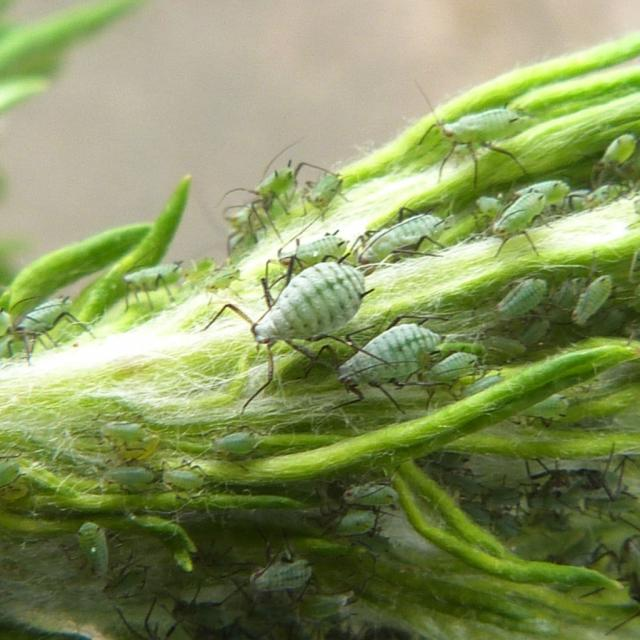Aphid-Grown-: (211, 253, 386, 380), (320, 309, 446, 396), (420, 101, 545, 171), (479, 267, 560, 338), (232, 545, 326, 601), (60, 514, 126, 591), (412, 338, 496, 397), (560, 264, 624, 331), (198, 414, 267, 469), (341, 478, 406, 516)
